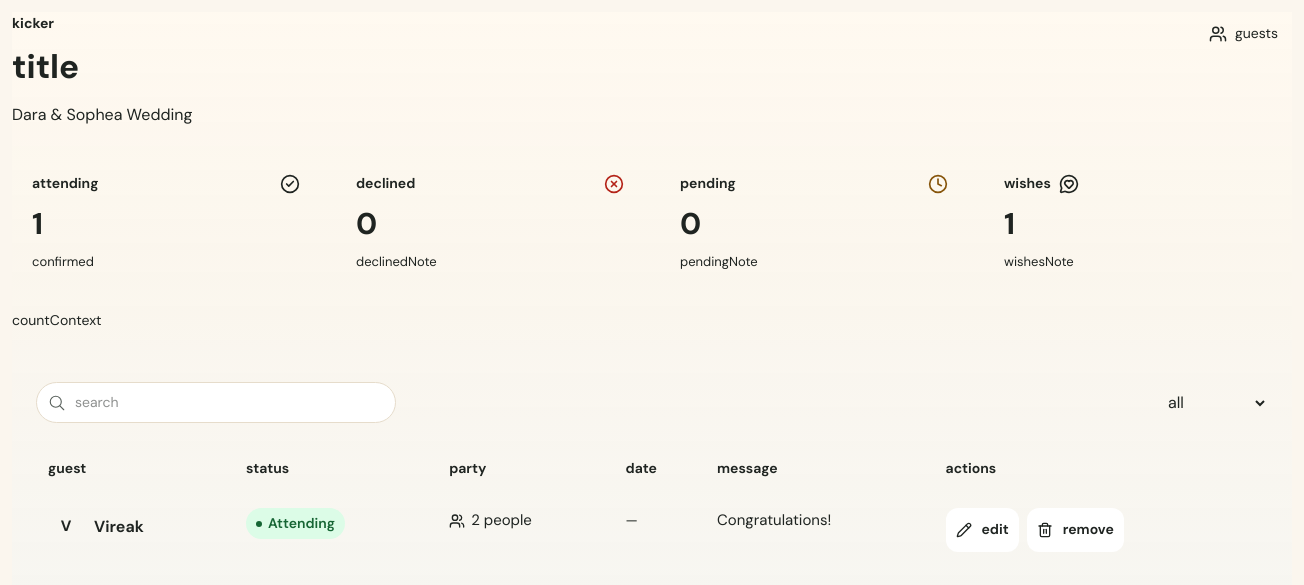
RsvpDashboardPage Module › allows switching to wishes card view mode
Click the button "wishes 1 wishesNote" at x=1027, y=183, box [984, 152, 1292, 293]
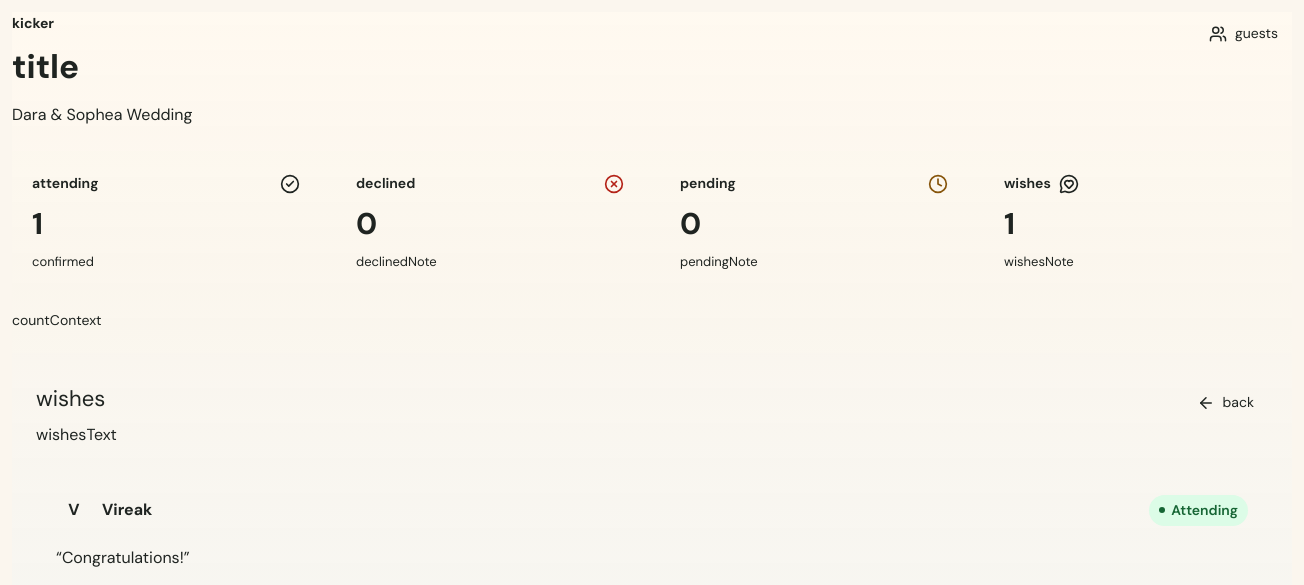
Expected: the text "“Congratulations!”" is shown, [56, 547, 190, 568]
